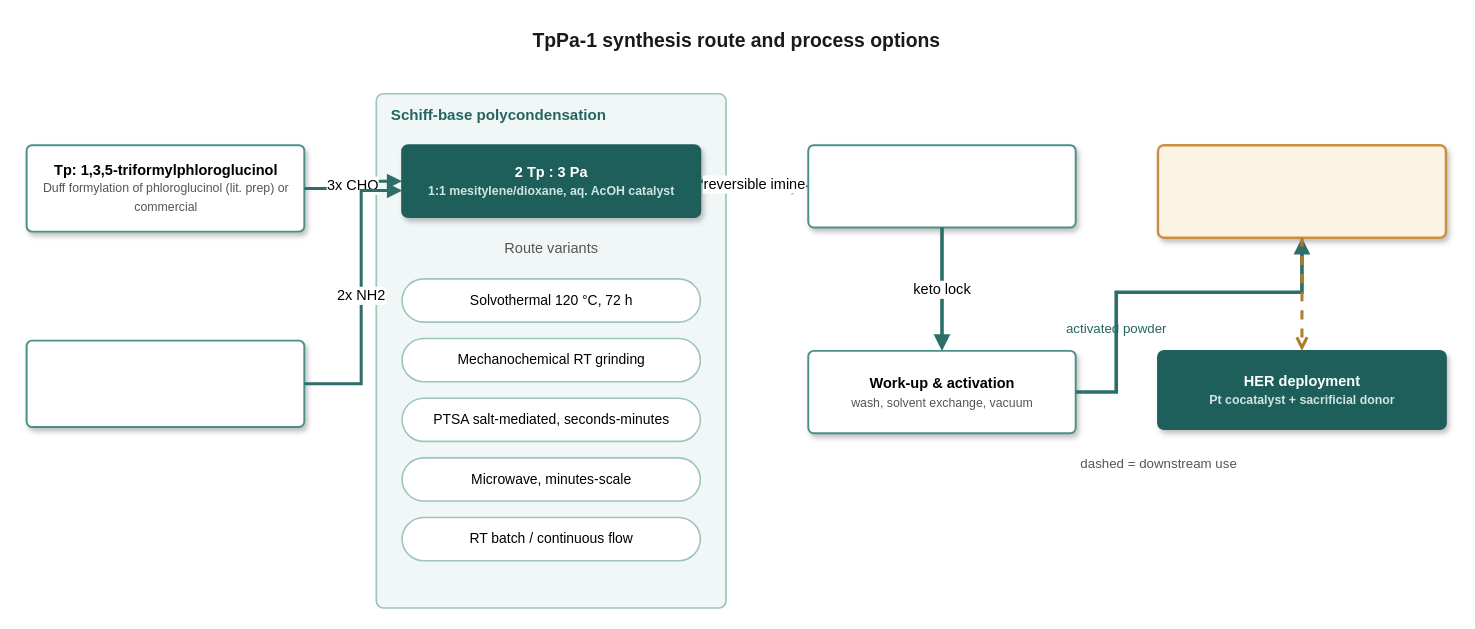
The diagram is 1475 pixels wide and 629 high, and some of its shapes have lost their labels. Here are the shapes that lost their labels. From the top down, the centre of each, then its label:
At (942,187): "enol-imine → keto-enamine irreversible tautomerization".
At (1302,193): "TpPa-1 beta-ketoenamine 2D COF; stable: 9 N HCl, boiling water".
At (166,385): "Pa-1: p-phenylenediamine commercial, purify by sublimation".
